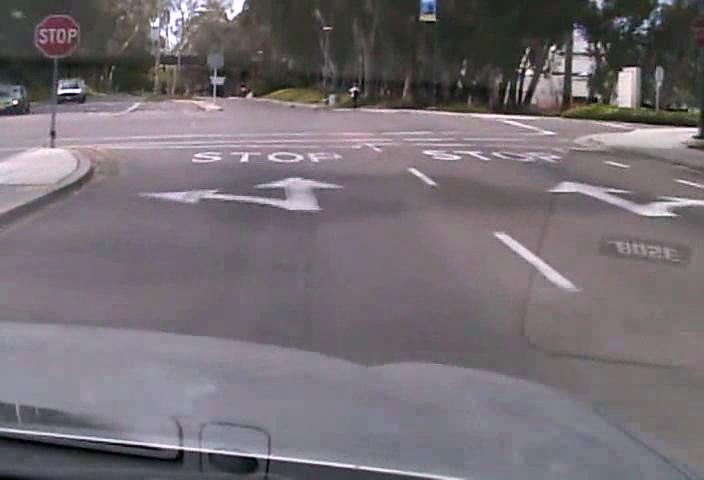stop: (33, 13, 81, 58)
